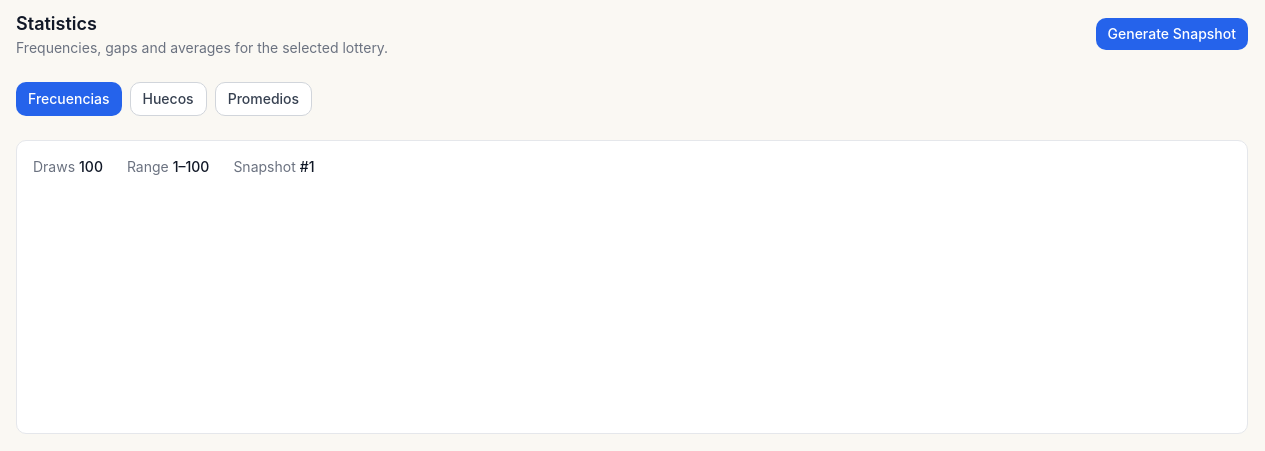
Test: Statistics › switches tabs to gap and average charts
Step 1. Click the tab "Huecos" → (168, 99), box [130,82,207,116]
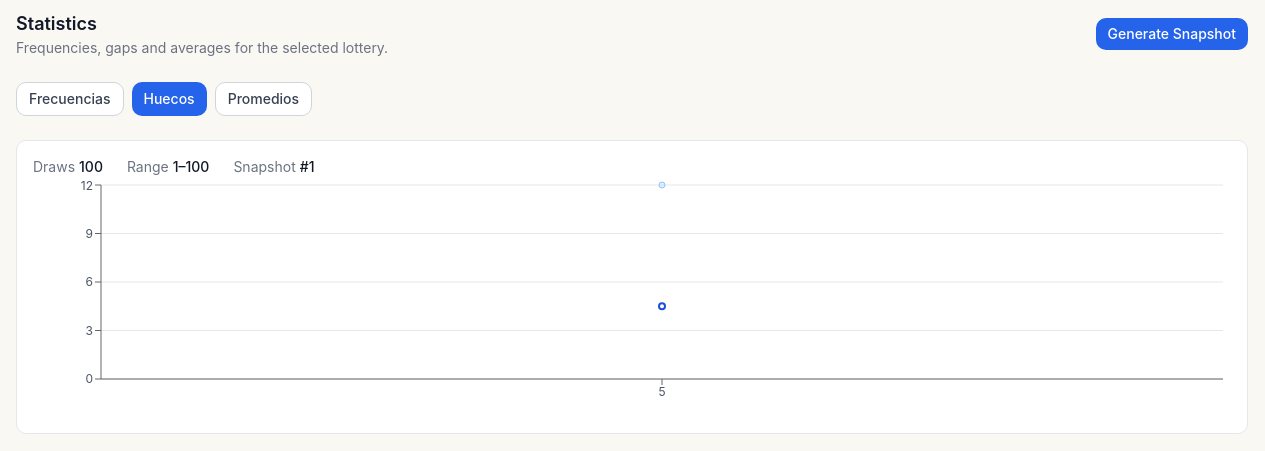
Now the picture named "gap analysis per number" is shown, box [33,177,1231,417]
Step 2. Click the tab "Promedios" → (263, 99), box [215,82,312,116]
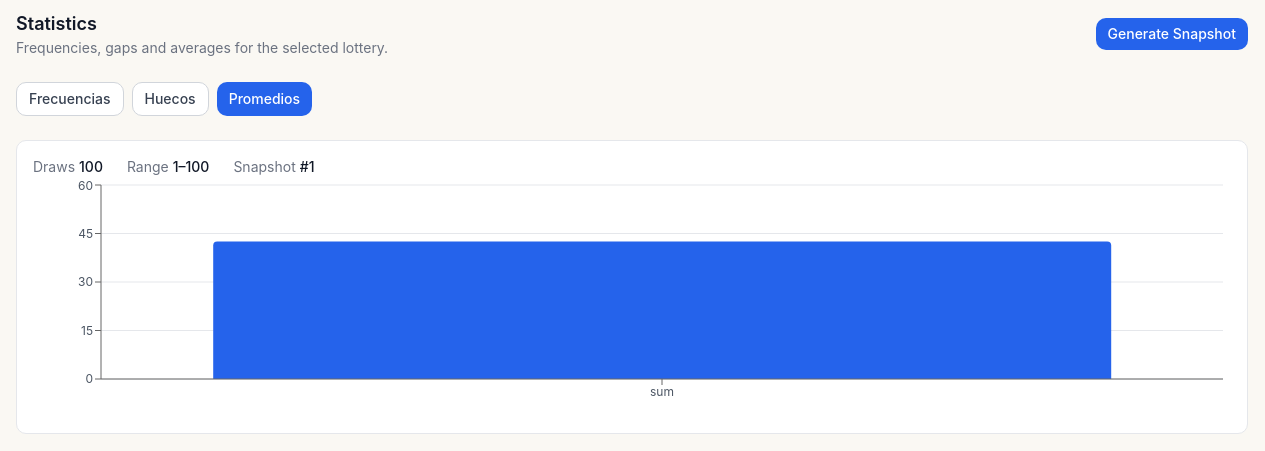
Now the picture named "average gap per series" is shown, box [33,177,1231,417]
